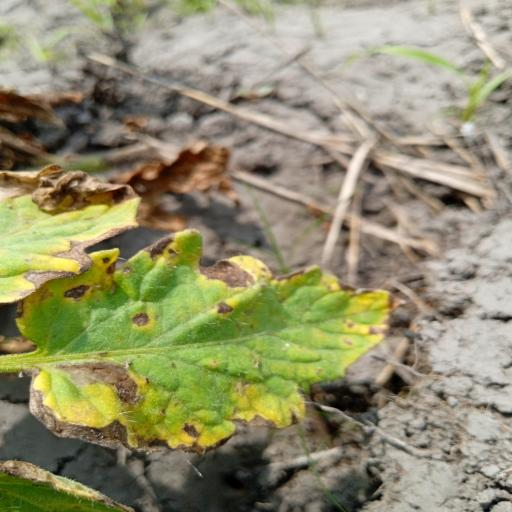Tomato_Brown_Spots: (10, 226, 406, 458)
